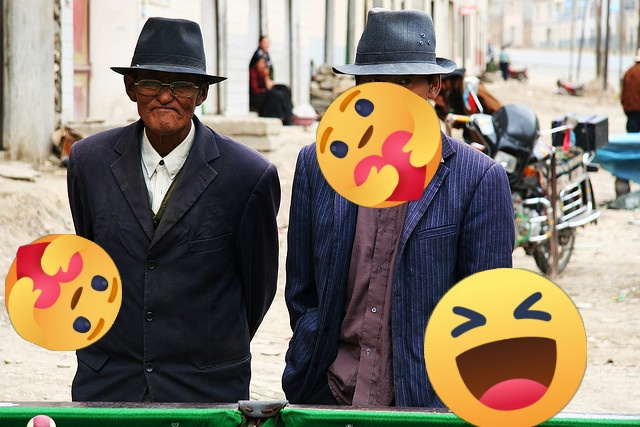care: (316, 82, 442, 208), (5, 234, 122, 351)
haha: (424, 268, 587, 427)
